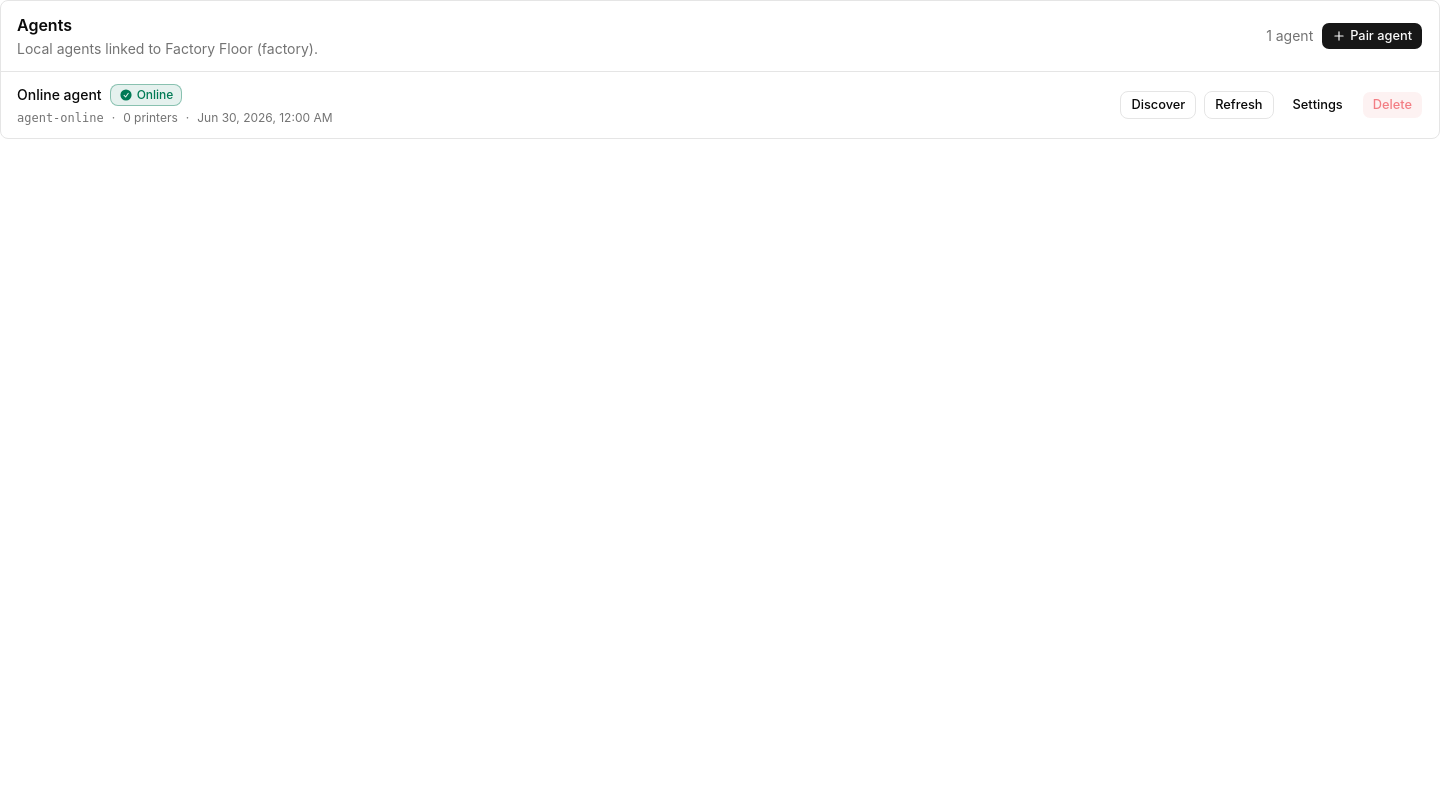
AgentsSection › opens the discover dialog for an online agent
Click the button with aria-label "Discover printers with Online agent" at (1158, 105), box [1120,91,1196,119]
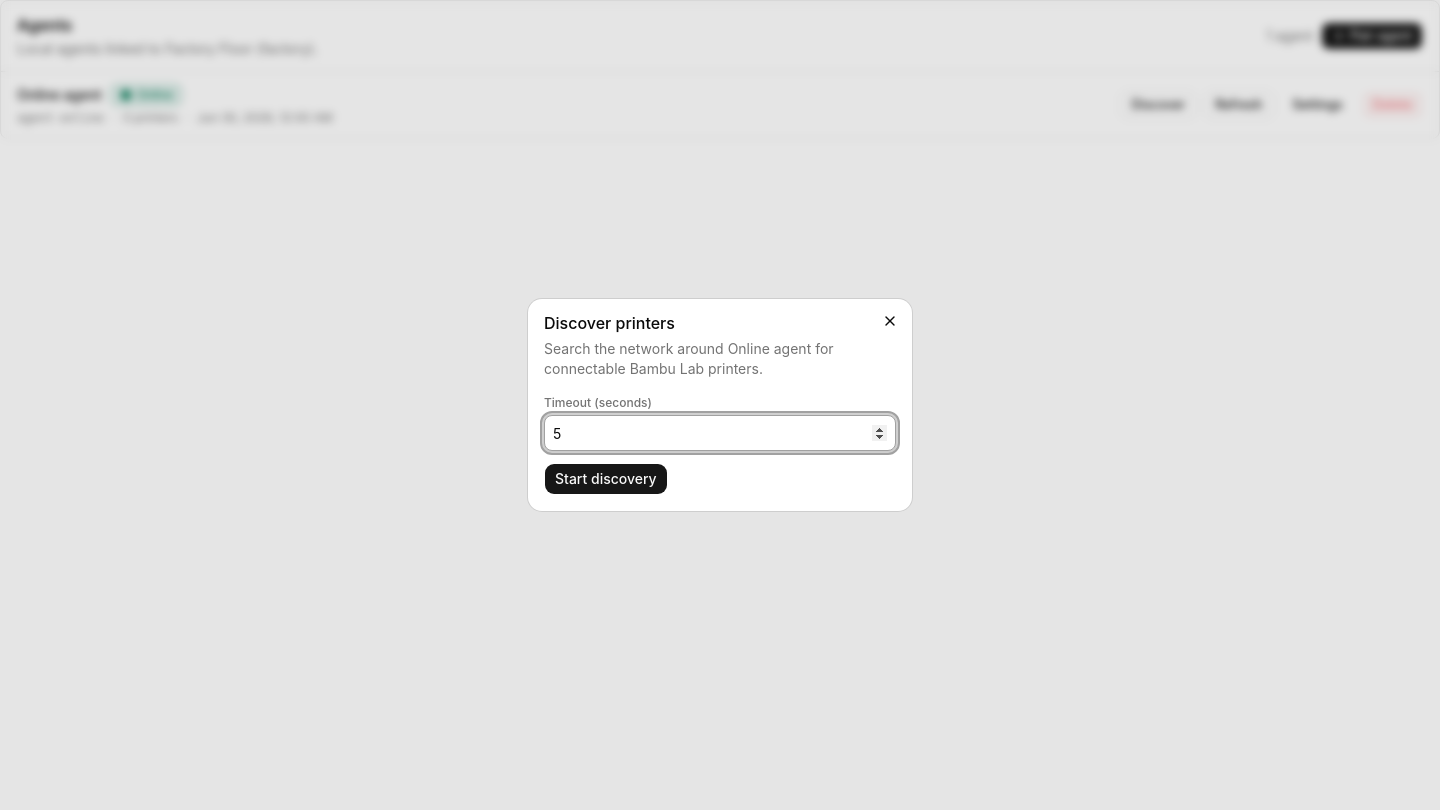
Result: the dialog "Discover printers" is shown at [528,299,912,511]
Result: the text "Search the network around Online agent for connectable Bambu Lab printers." is shown at [544,340,834,377]
Result: the number field labelled "Timeout (seconds)" holds "5" at [544,415,896,451]
